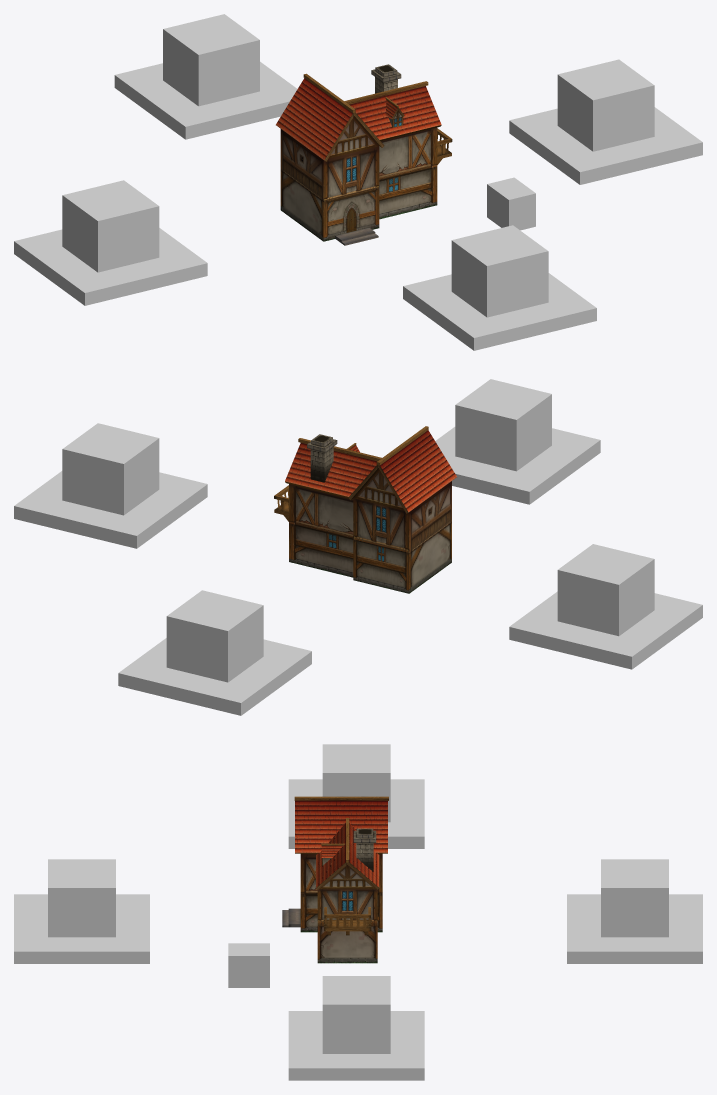
File: test.babylon.gltf
3 views of the same model, one above another, from view 1: azimuth 30°, elevation 25°; view 2: azimuth 150°, elevation 25°; view 3: azimuth 270°, elevation 25° (orthographic). The views are drawn at different scales.
Parts seen in each view (by area): view 1: cadnav.com, Box010, Box004, Box006, Box008, Box005, Box009, Box003, Box007, Box011; view 2: cadnav.com, Box006, Box008, Box004, Box010, Box005, Box003, Box007, Box009; view 3: cadnav.com, Box005, Box007, Box009, Box006, Box008, Box010, Box004, Box003, Box011.
Boxes of the visible parts, x1,y1,x2,y2 form: cadnav.com: (276, 64, 452, 245); Box010: (451, 225, 548, 317); Box004: (62, 180, 159, 272); Box006: (557, 59, 654, 151); Box008: (163, 14, 259, 106); Box005: (509, 107, 702, 184); Box009: (403, 273, 596, 350); Box003: (14, 228, 207, 305); Box007: (114, 61, 297, 139); Box011: (487, 177, 535, 230); cadnav.com: (274, 426, 456, 593); Box006: (62, 423, 159, 515); Box008: (166, 590, 263, 682); Box004: (557, 544, 654, 636); Box010: (455, 379, 551, 471); Box005: (14, 471, 207, 548); Box003: (509, 591, 702, 669); Box007: (118, 638, 311, 715); Box009: (435, 427, 600, 504); cadnav.com: (282, 796, 388, 963); Box005: (288, 1011, 424, 1080); Box007: (567, 894, 702, 963); Box009: (14, 894, 149, 963); Box006: (322, 976, 390, 1053); Box008: (601, 859, 668, 937); Box010: (48, 859, 115, 937); Box004: (322, 744, 390, 822); Box003: (288, 779, 424, 848); Box011: (228, 943, 269, 987).
Bounding box in the file's own units: 0.503 × 0.0989 × 0.5066.
1 material, 1 textured.
